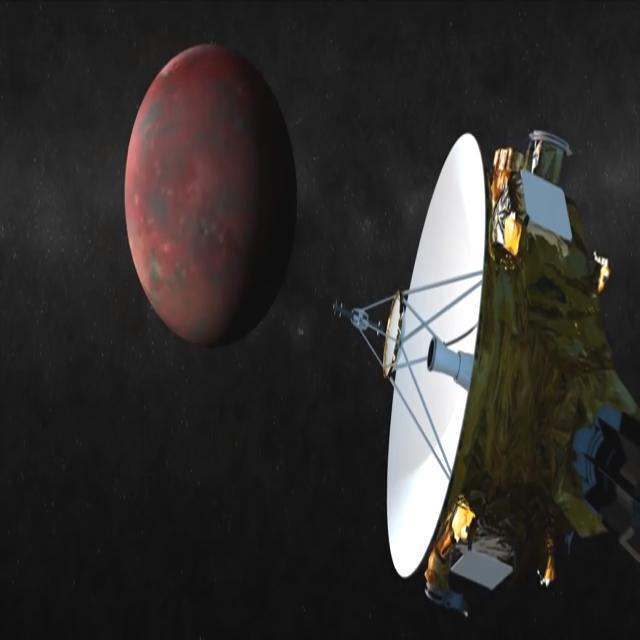satellite: (332, 0, 627, 640)
